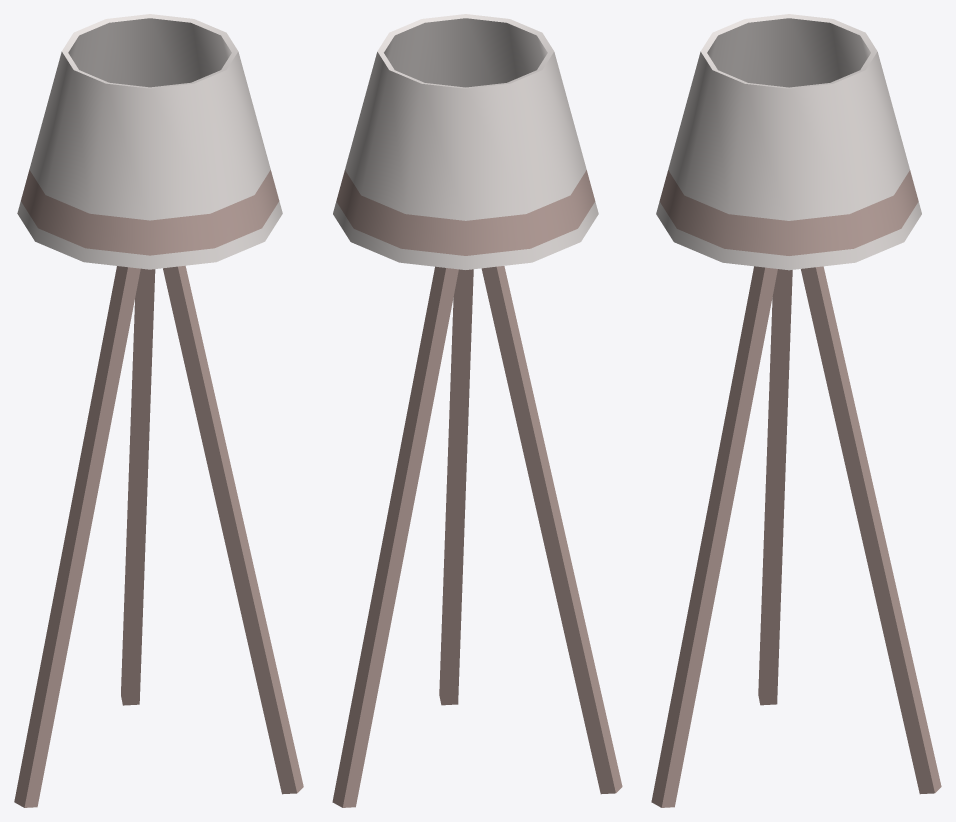
Rendered from Lampara2.obj.
3 views of the same model, side by side, from view 1: azimuth 30°, elevation 25°; view 2: azimuth 150°, elevation 25°; view 3: azimuth 270°, elevation 25° (orthographic).
Visible parts, largest first — view 1: lamp_002; view 2: lamp_002; view 3: lamp_002.
Part boxes in pixels (x1,y1,x2,y2): lamp_002: (14,14,303,807); lamp_002: (332,14,622,807); lamp_002: (651,14,941,807).
Size of the model in its own units: 2.95 by 7.8 by 2.87.
Materials: 1 (1 with a texture image).
